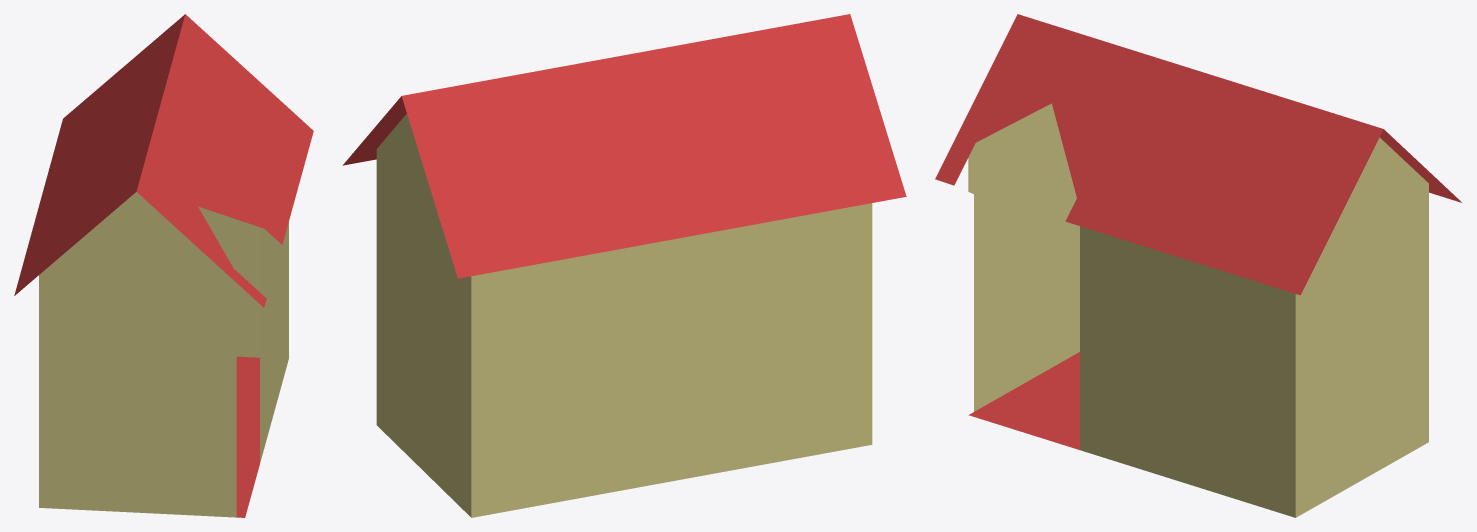
3 views of the same model, side by side, from view 1: azimuth 30°, elevation 25°; view 2: azimuth 150°, elevation 25°; view 3: azimuth 270°, elevation 25° (orthographic). The views are drawn at different scales.
Size of the model in its own units: 20.22 by 21.75 by 16.19.
